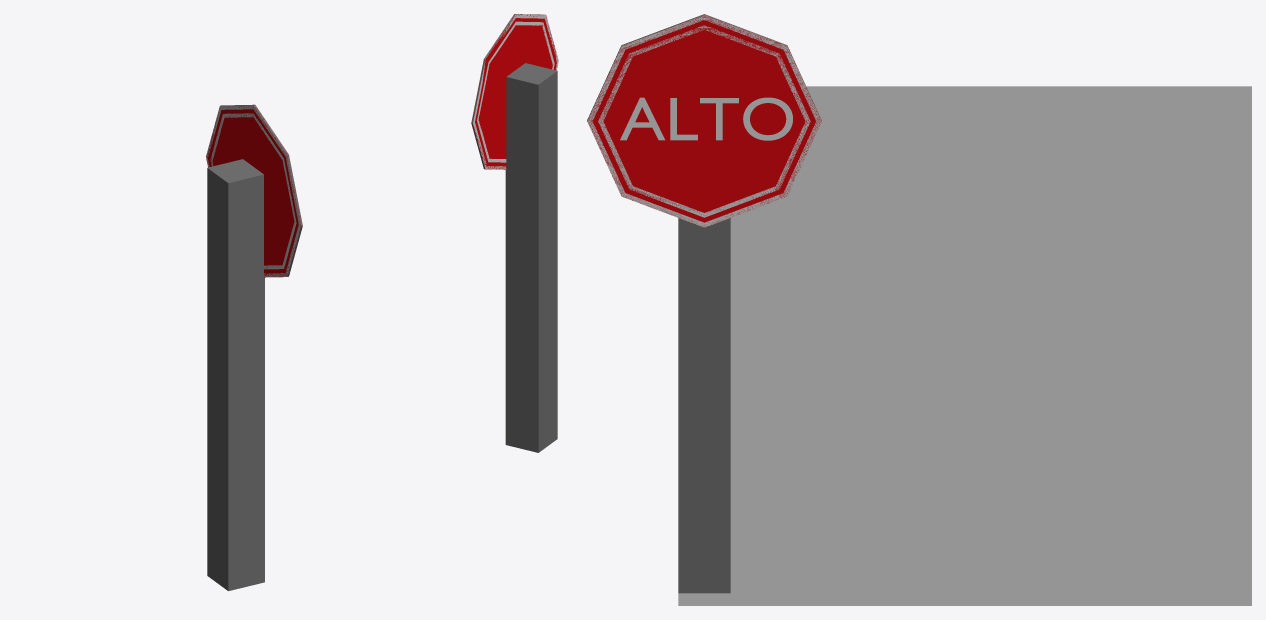
Rendered from stop_sign.gltf.
The picture shows the model from 3 angles, left to right: view 1: azimuth 30°, elevation 25°; view 2: azimuth 150°, elevation 25°; view 3: azimuth 270°, elevation 25°; orthographic projection. The views are drawn at different scales.
Visible parts, largest first — view 1: Poste, Stop; view 2: Poste, Stop; view 3: Plane, Stop, Poste, Text.
Boxes of the visible parts, x1,y1,x2,y2 form: Poste: (207,159,264,591); Stop: (206,104,302,277); Poste: (505,63,557,452); Stop: (471,14,558,169); Plane: (678,86,1251,605); Stop: (587,14,821,227); Poste: (678,218,730,593); Text: (620,97,792,140).
Bounding box in the file's own units: 0.21 × 2.55 × 2.55.
